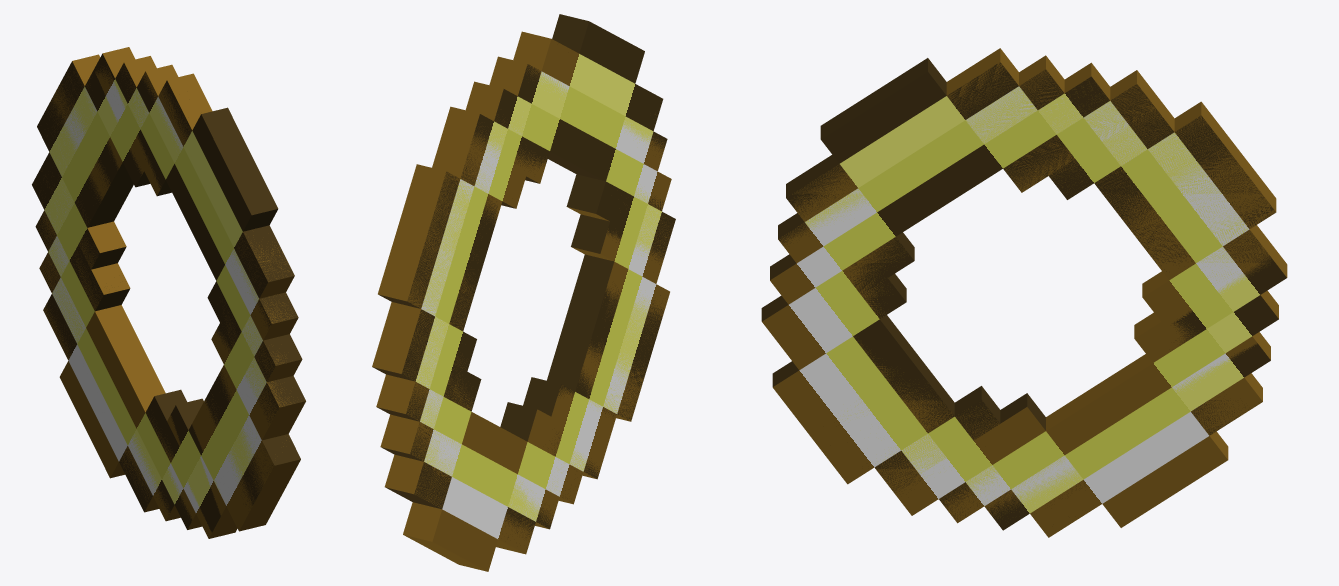
The model's file is gold_chakram.glb.
3 views of the same model, side by side, from view 1: azimuth 30°, elevation 25°; view 2: azimuth 150°, elevation 25°; view 3: azimuth 270°, elevation 25° (orthographic). The views are drawn at different scales.
Parts seen in each view (by area): view 1: main__Tool_R, off__Tool_L; view 2: off__Tool_L, main__Tool_R; view 3: main__Tool_R, off__Tool_L.
Boxes of the visible parts, x1=… form: main__Tool_R: x1=32, y1=53, x2=305, y2=538; off__Tool_L: x1=34, y1=47, x2=305, y2=532; off__Tool_L: x1=372, y1=14, x2=675, y2=567; main__Tool_R: x1=372, y1=21, x2=674, y2=571; main__Tool_R: x1=762, y1=63, x2=1286, y2=537; off__Tool_L: x1=761, y1=48, x2=1287, y2=530.
Size of the model in its own units: 0.0531 by 0.9749 by 0.9749.
Materials: 1 (1 with a texture image).
